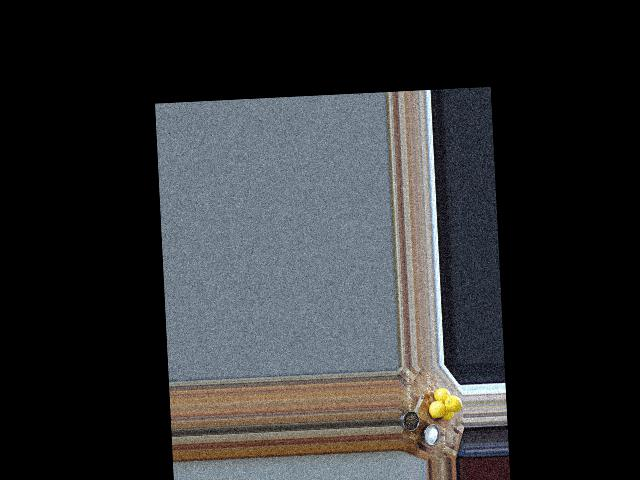lemon: (440, 408, 453, 422)
